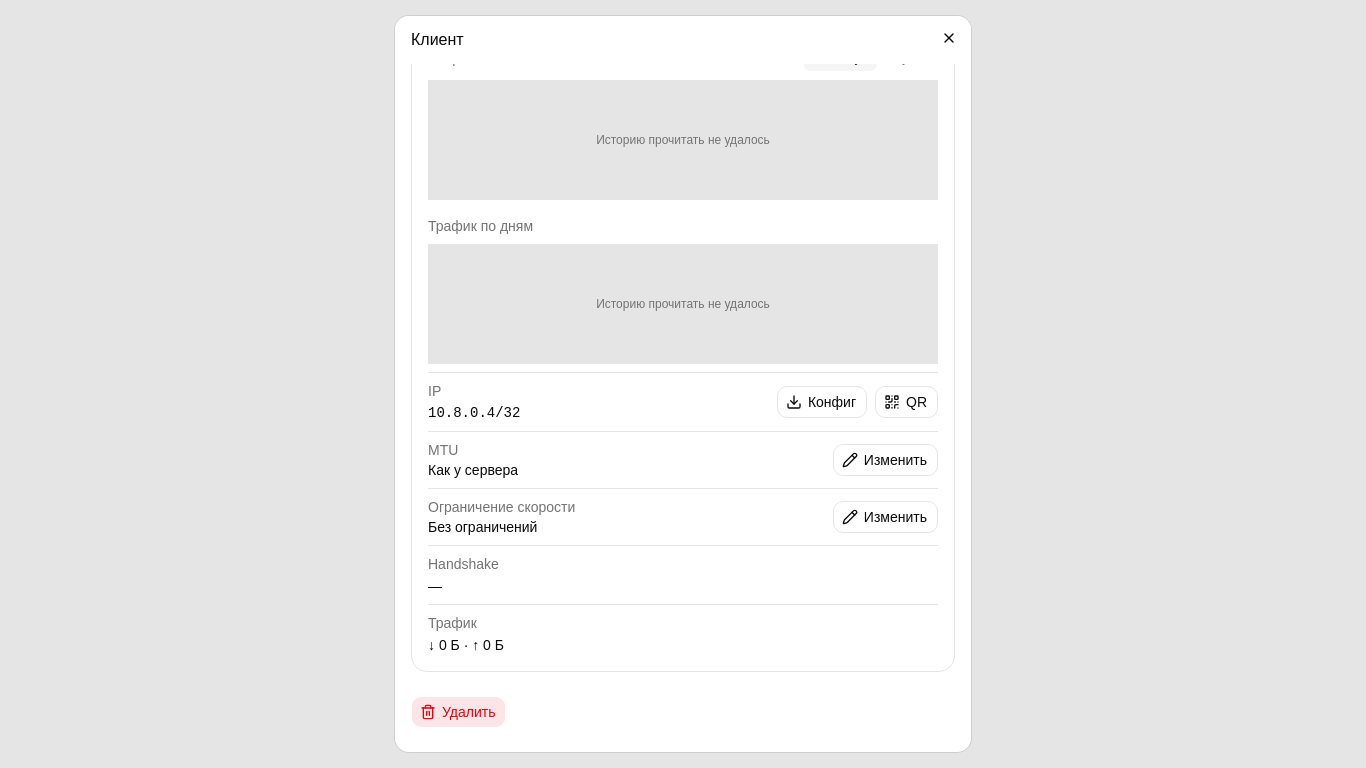
it: ограничение скорости в карточке клиента › не даёт сохранить значение вне границ
(page scrolled)
Click the button with aria-label "Изменить ограничение скорости" at coordinates (885, 517), box [833, 501, 938, 533]
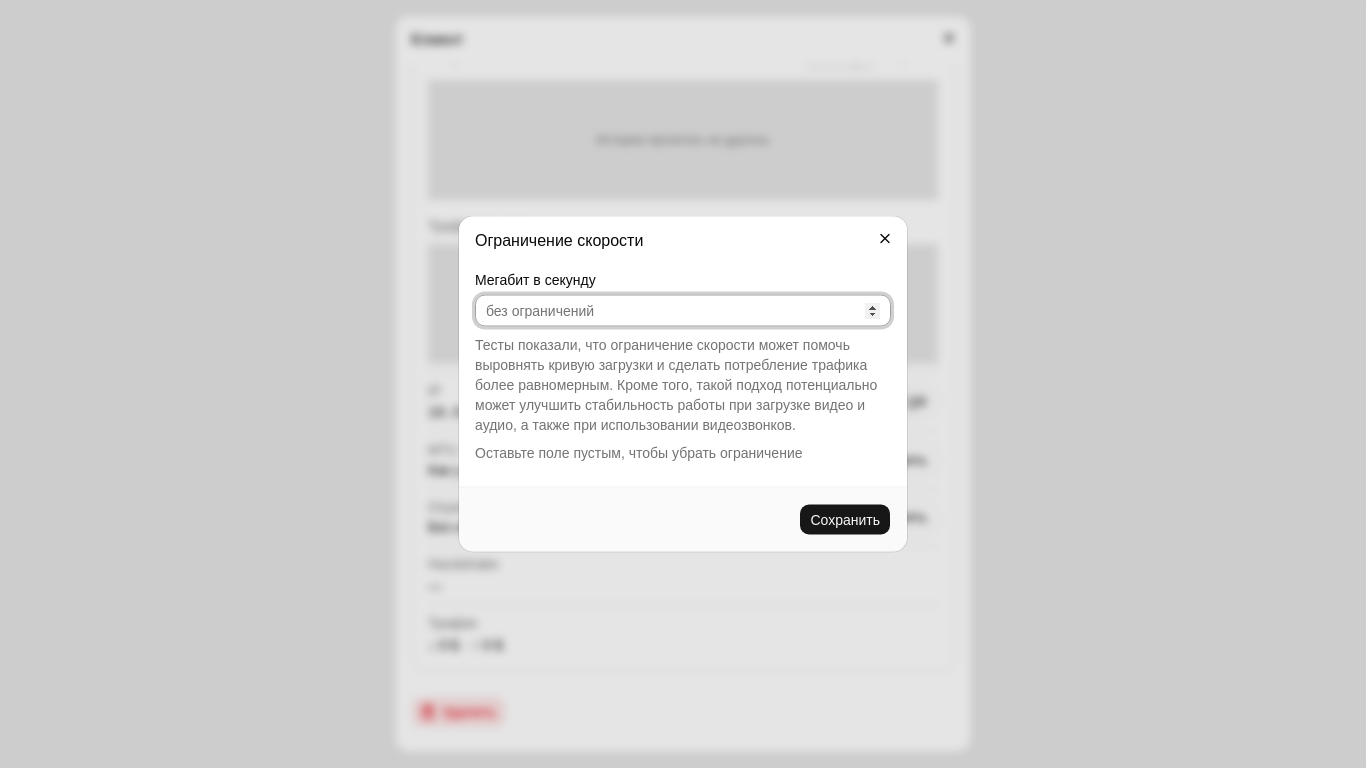
Type "5000" into the number field labelled "Мегабит в секунду" at coordinates (683, 310), box [475, 294, 891, 326]
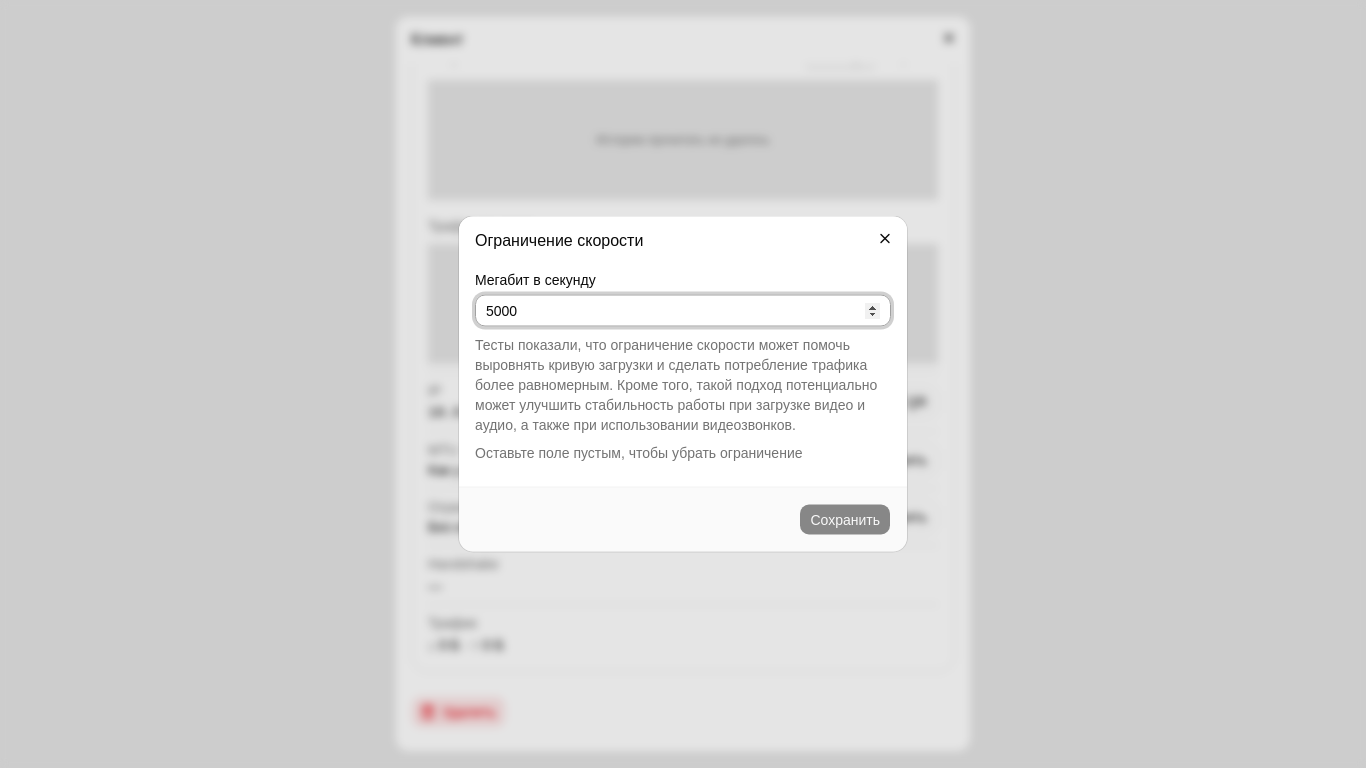
Check: the button with aria-label "Сохранить ограничение скорости" is disabled, box [799, 504, 891, 536]
